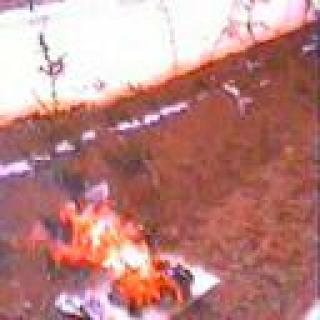fire: (20, 188, 199, 318)
